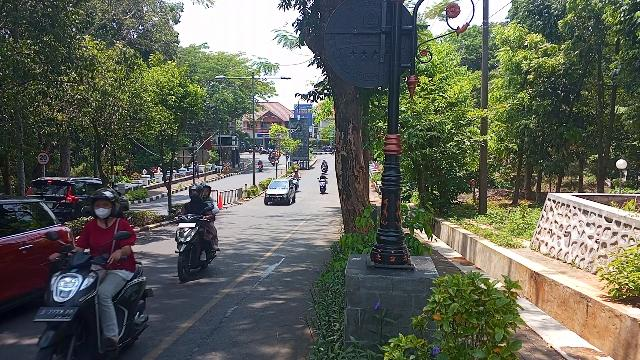helm: (90, 189, 121, 220), (190, 186, 205, 201), (202, 183, 212, 198)
motor: (35, 254, 154, 360), (170, 215, 221, 283)
